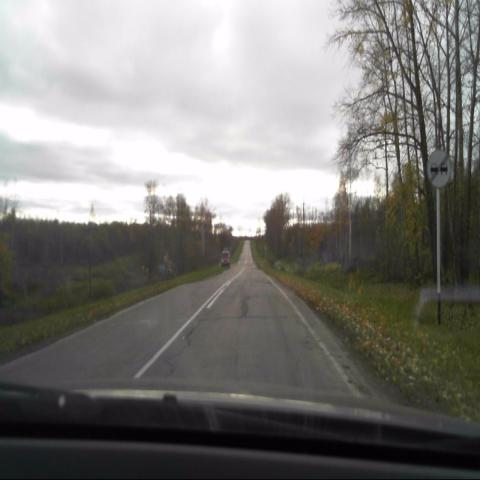3_21: (427, 149, 451, 188)
